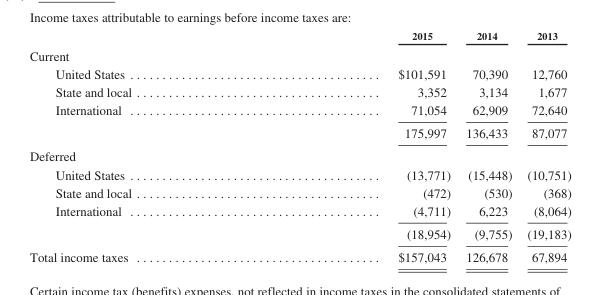table: (28, 29, 570, 264)
table column: (28, 29, 264, 264), (264, 29, 457, 264), (457, 29, 519, 264), (519, 29, 570, 264)
table column header: (28, 29, 570, 44)
table projected row header: (28, 144, 570, 165), (28, 44, 570, 64)
table row: (28, 221, 570, 245), (28, 121, 570, 144), (28, 100, 570, 121), (28, 144, 570, 165), (28, 44, 570, 64), (28, 201, 570, 221), (28, 245, 570, 264), (28, 64, 570, 82), (28, 82, 570, 100), (28, 165, 570, 183), (28, 183, 570, 201), (28, 29, 570, 44)
